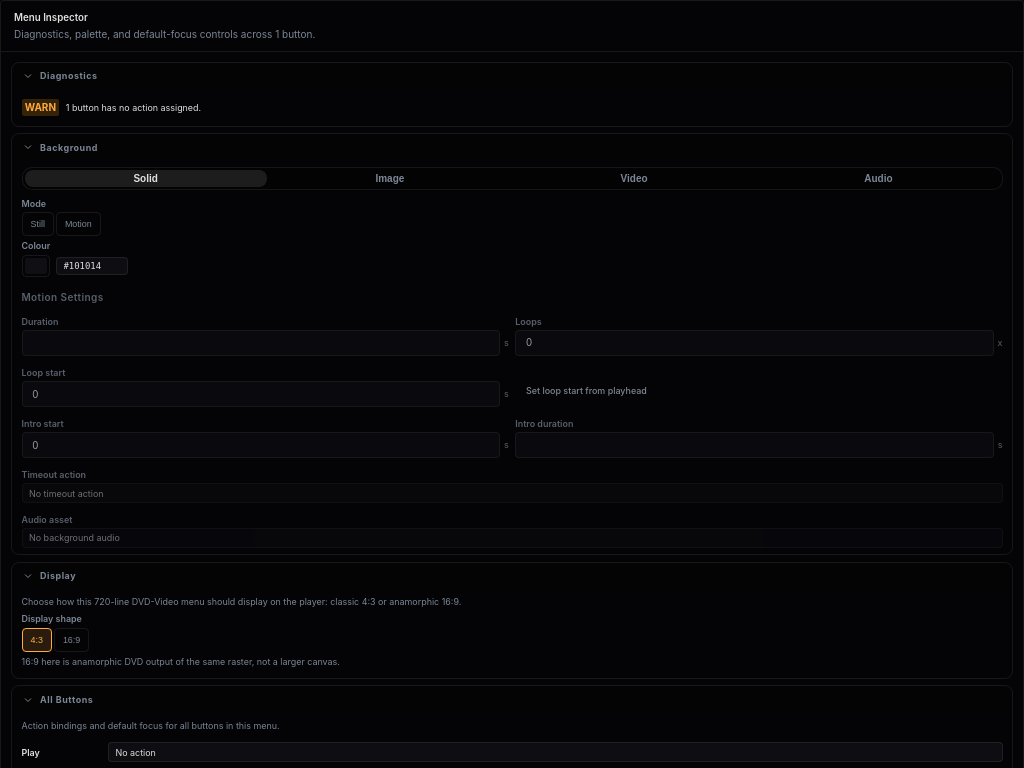
it: InspectorPanel › switches the menu-level background tab between solid/image/video/audio sources
Click the button "Video" at (634, 179), box [513,170,755,187]
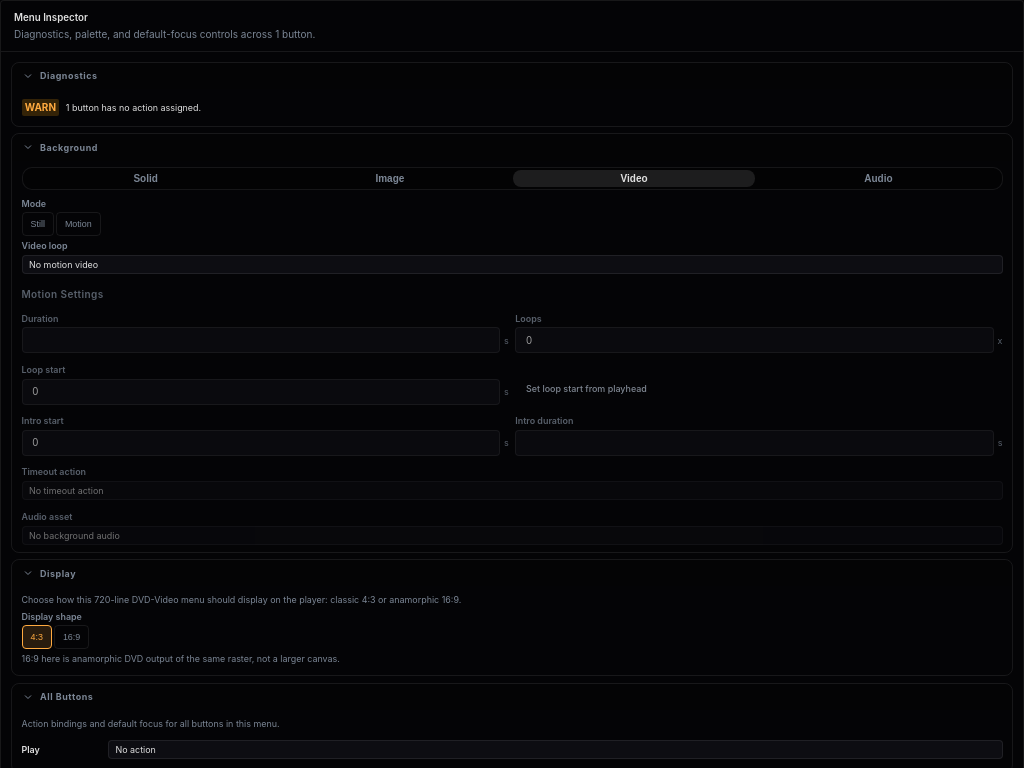
Click the button "Audio" at (878, 179), box [757,170,1000,187]
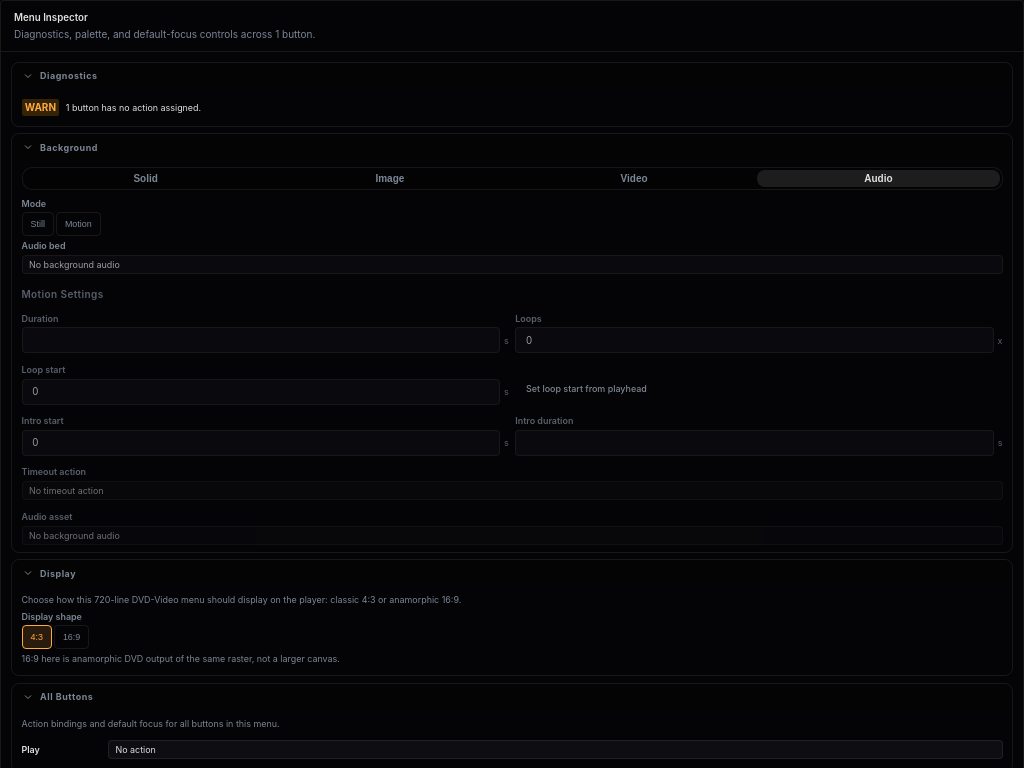
Now the text "Audio bed" is shown, box [22,240,66,251]
